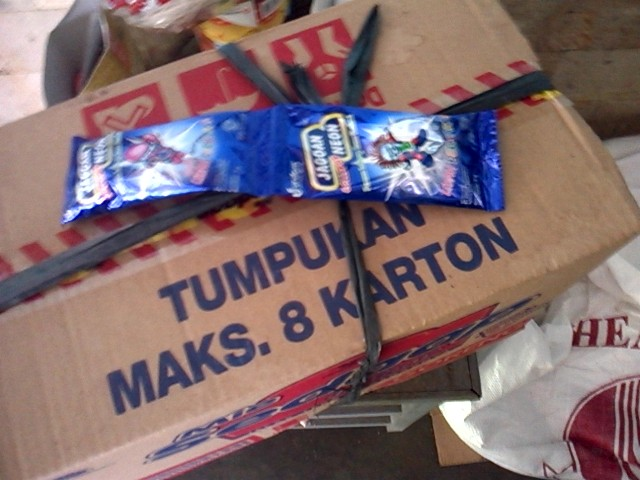jagoan neon: (264, 106, 504, 209), (62, 108, 266, 225)
